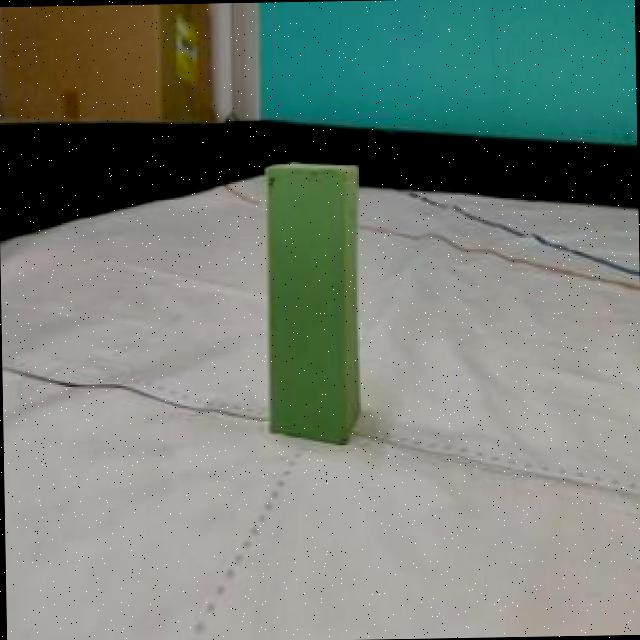greenbox: (266, 160, 358, 446)
